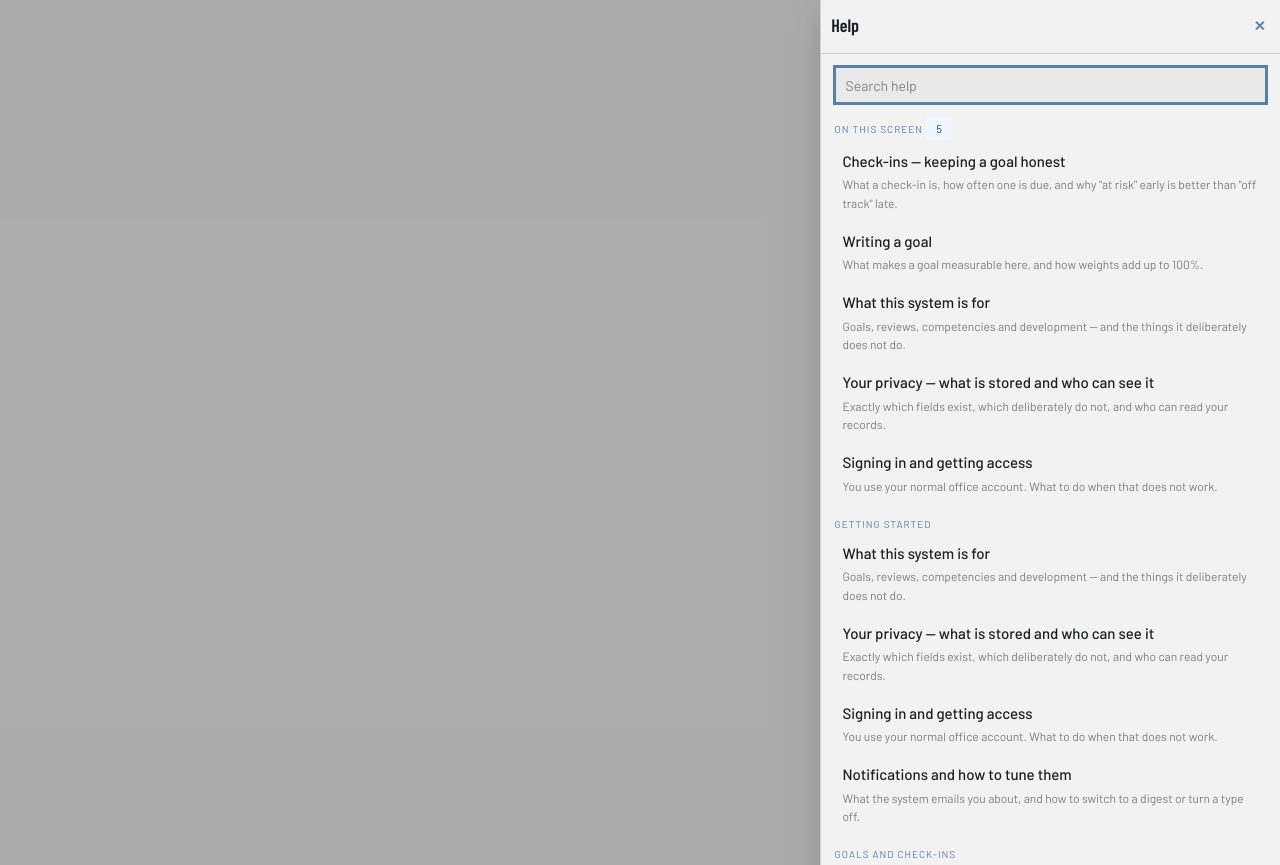
it: the drawer offers the right articles › says so honestly when nothing matches
Type "zzzzz" into the search field labelled "Search help" at (1050, 85), box [835, 67, 1266, 103]
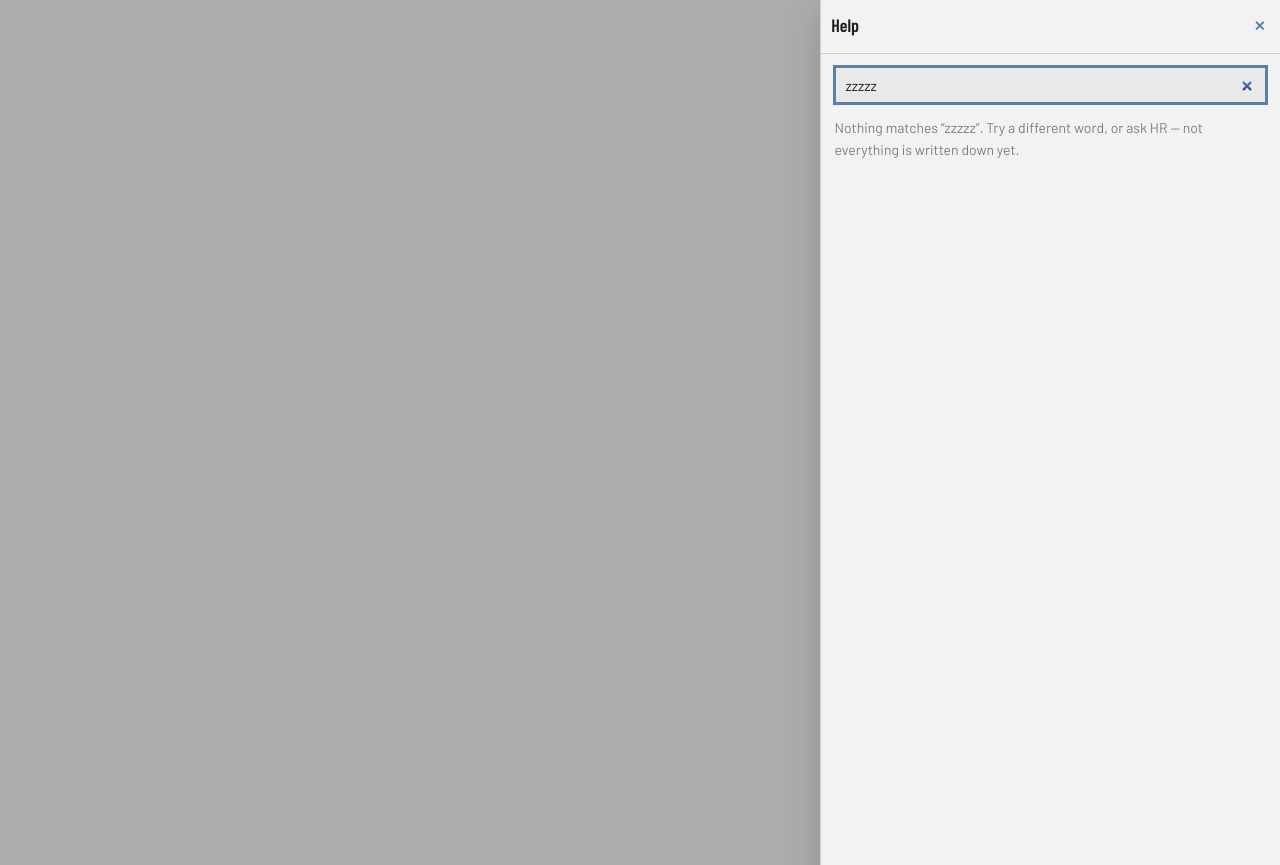
Result: the text "Nothing matches" is shown at [835, 119, 945, 136]
Result: the text "ask HR" is shown at [835, 119, 1203, 158]
